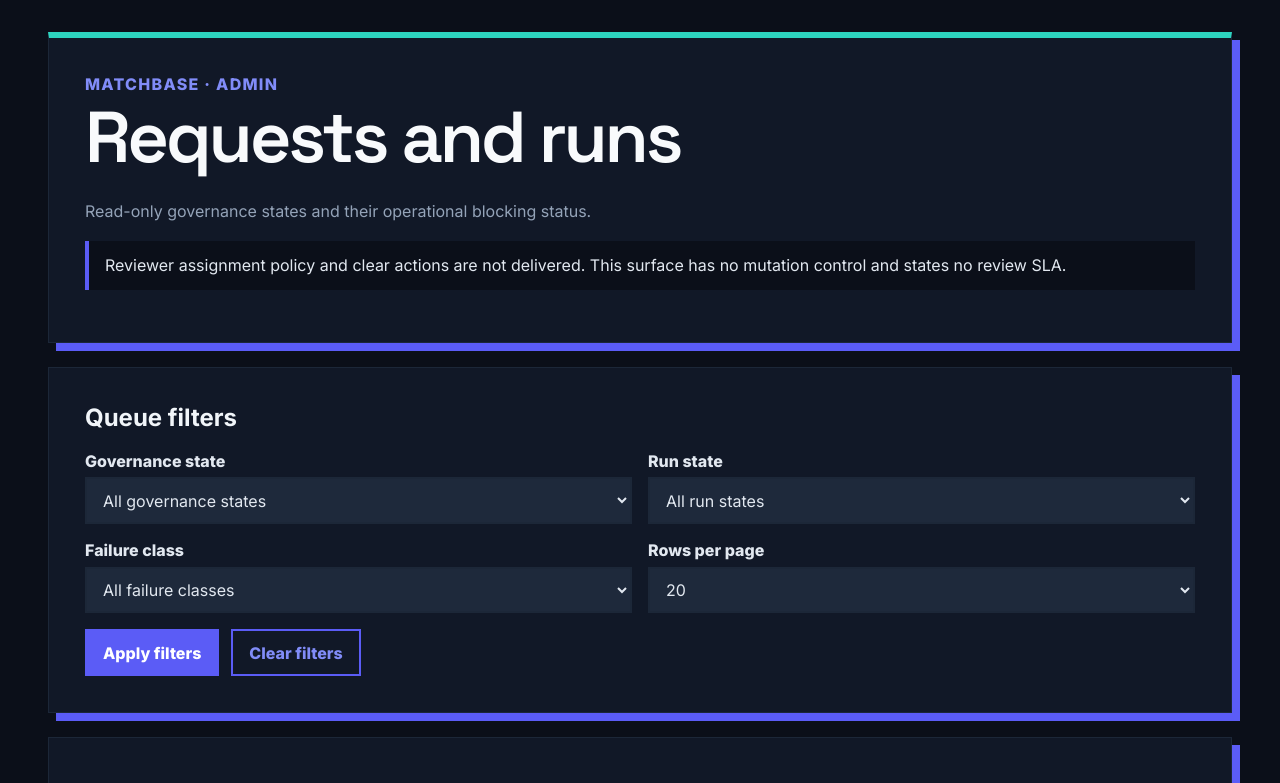
Test: distinguishes empty and filtered-empty states
This screenshot has width=1280, height=783.
Select "Evaluation Failed" in the dropdown labelled "Governance state" at (358, 501), box x1=85 y1=478 x2=632 y2=524
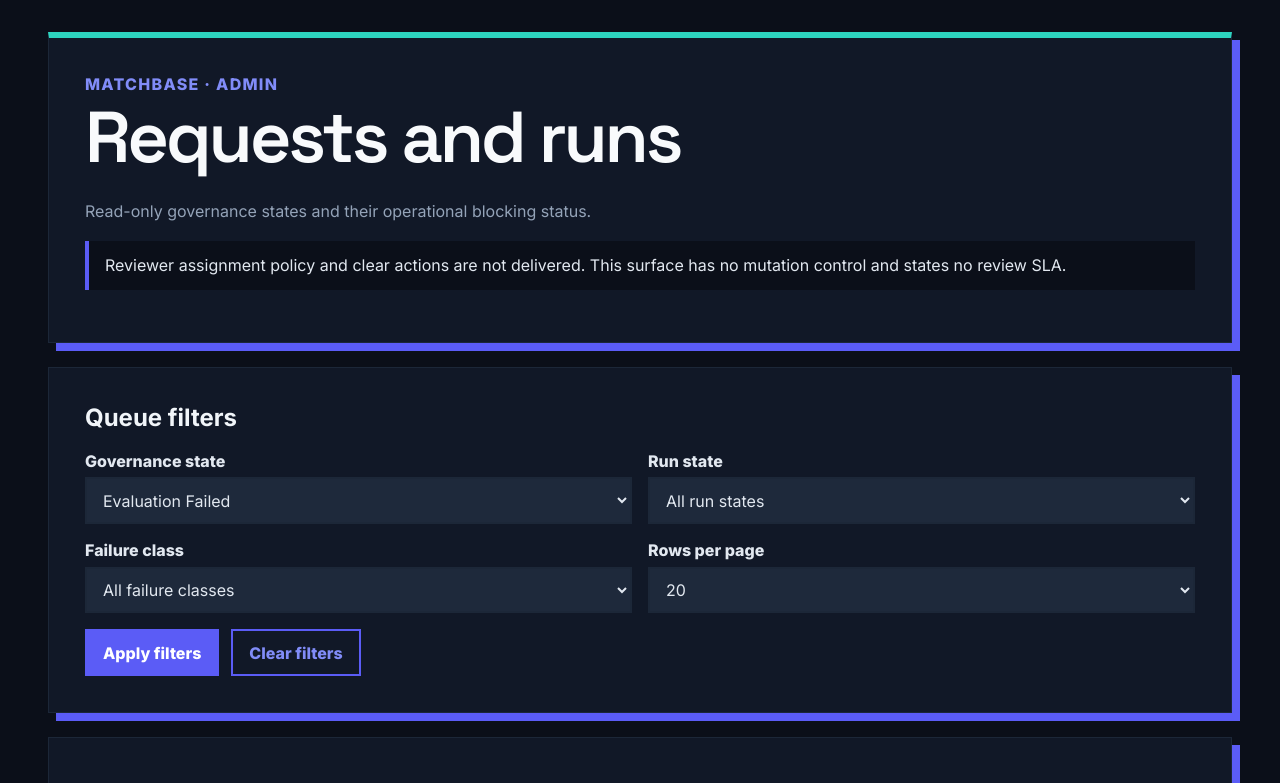
Click the button "Apply filters".
click(152, 653)  # box x1=85 y1=629 x2=219 y2=676
(page scrolled)
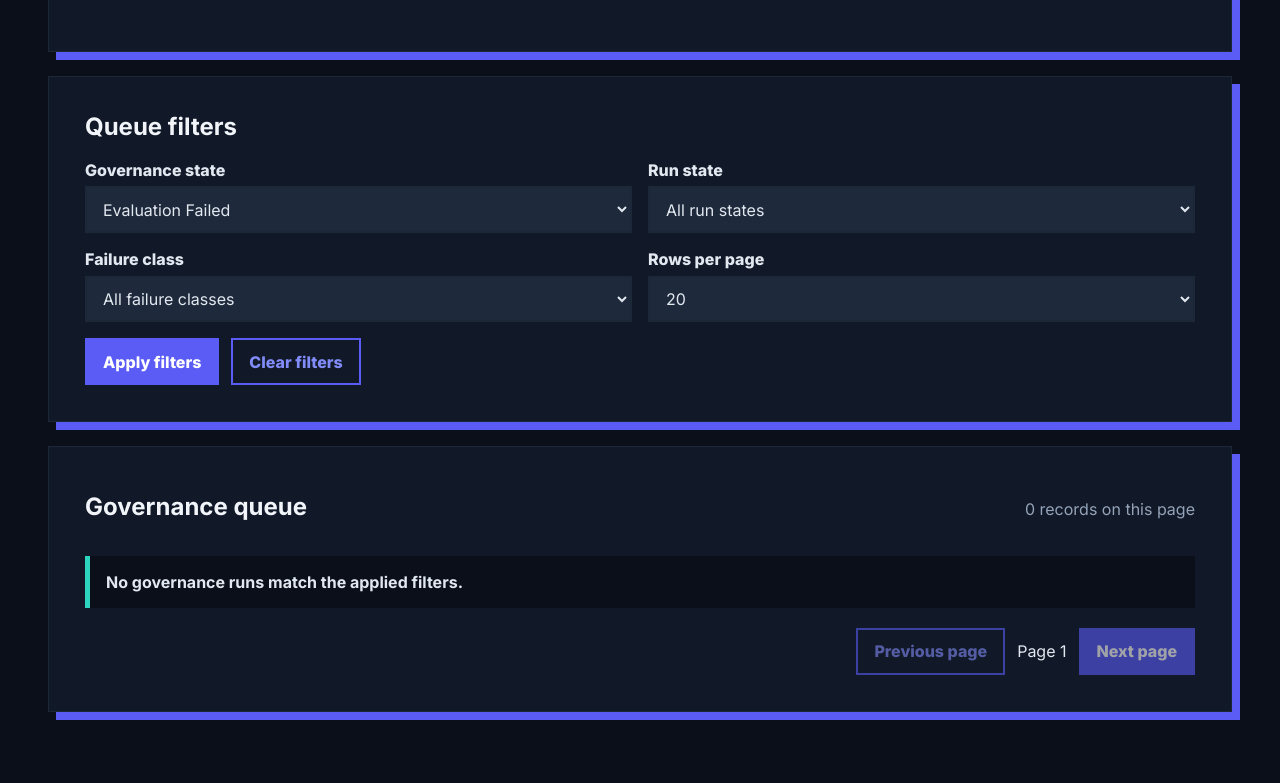
Check: the text "No governance runs match the applied filters." is shown, box x1=85 y1=556 x2=1195 y2=608
